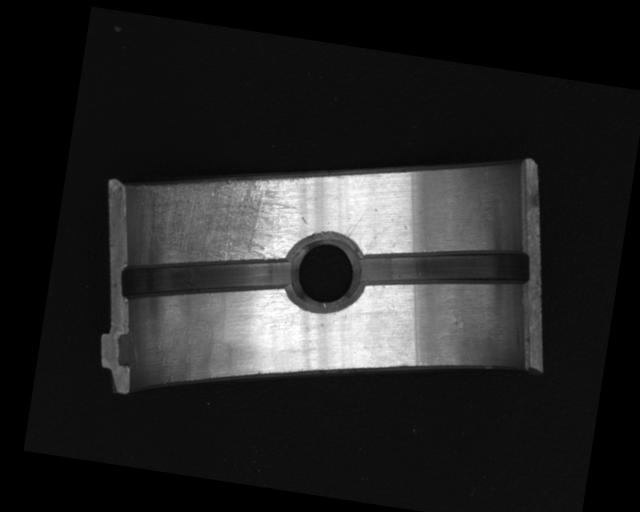gap: (115, 232, 294, 324), (361, 228, 534, 308)
hole: (280, 234, 365, 313)
scratch: (122, 157, 295, 284)
